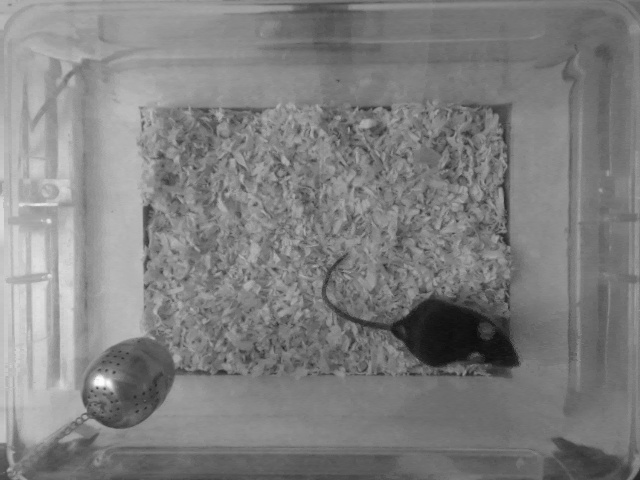mice: (320, 254, 522, 371)
